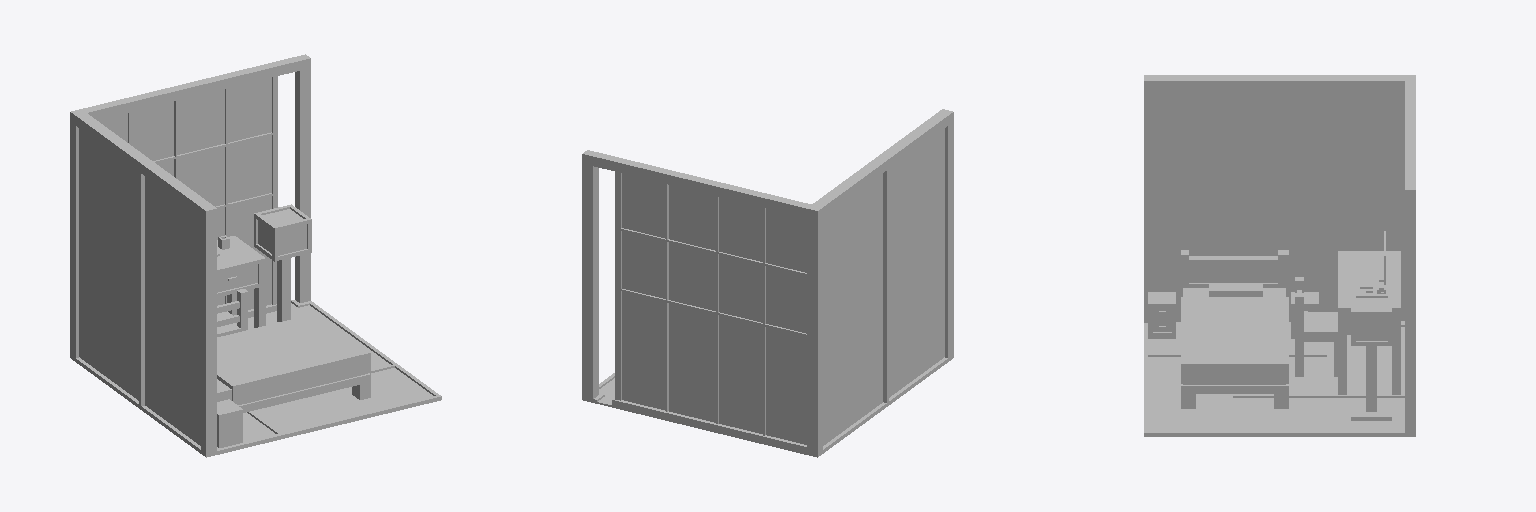
File: room.obj
3 renders of one model, left to right at view 1: azimuth 30°, elevation 25°; view 2: azimuth 150°, elevation 25°; view 3: azimuth 270°, elevation 25°, orthographic.
Parts seen in each view (by area): view 1: object 1; view 2: object 1; view 3: object 1.
Part boxes in pixels (bbox=[...]): object 1: bbox=[70, 54, 441, 457]; object 1: bbox=[582, 109, 953, 457]; object 1: bbox=[1144, 75, 1415, 436].
Bounding box in the file's own units: 12.6 × 12.6 × 12.6.